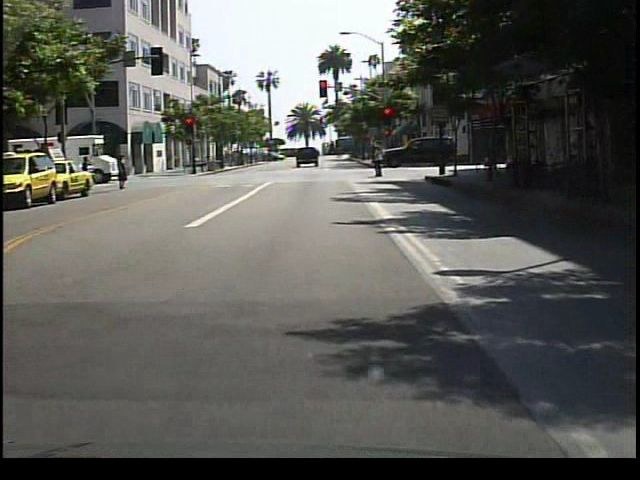person: (480, 138, 500, 183), (371, 147, 391, 181), (115, 157, 131, 193)
